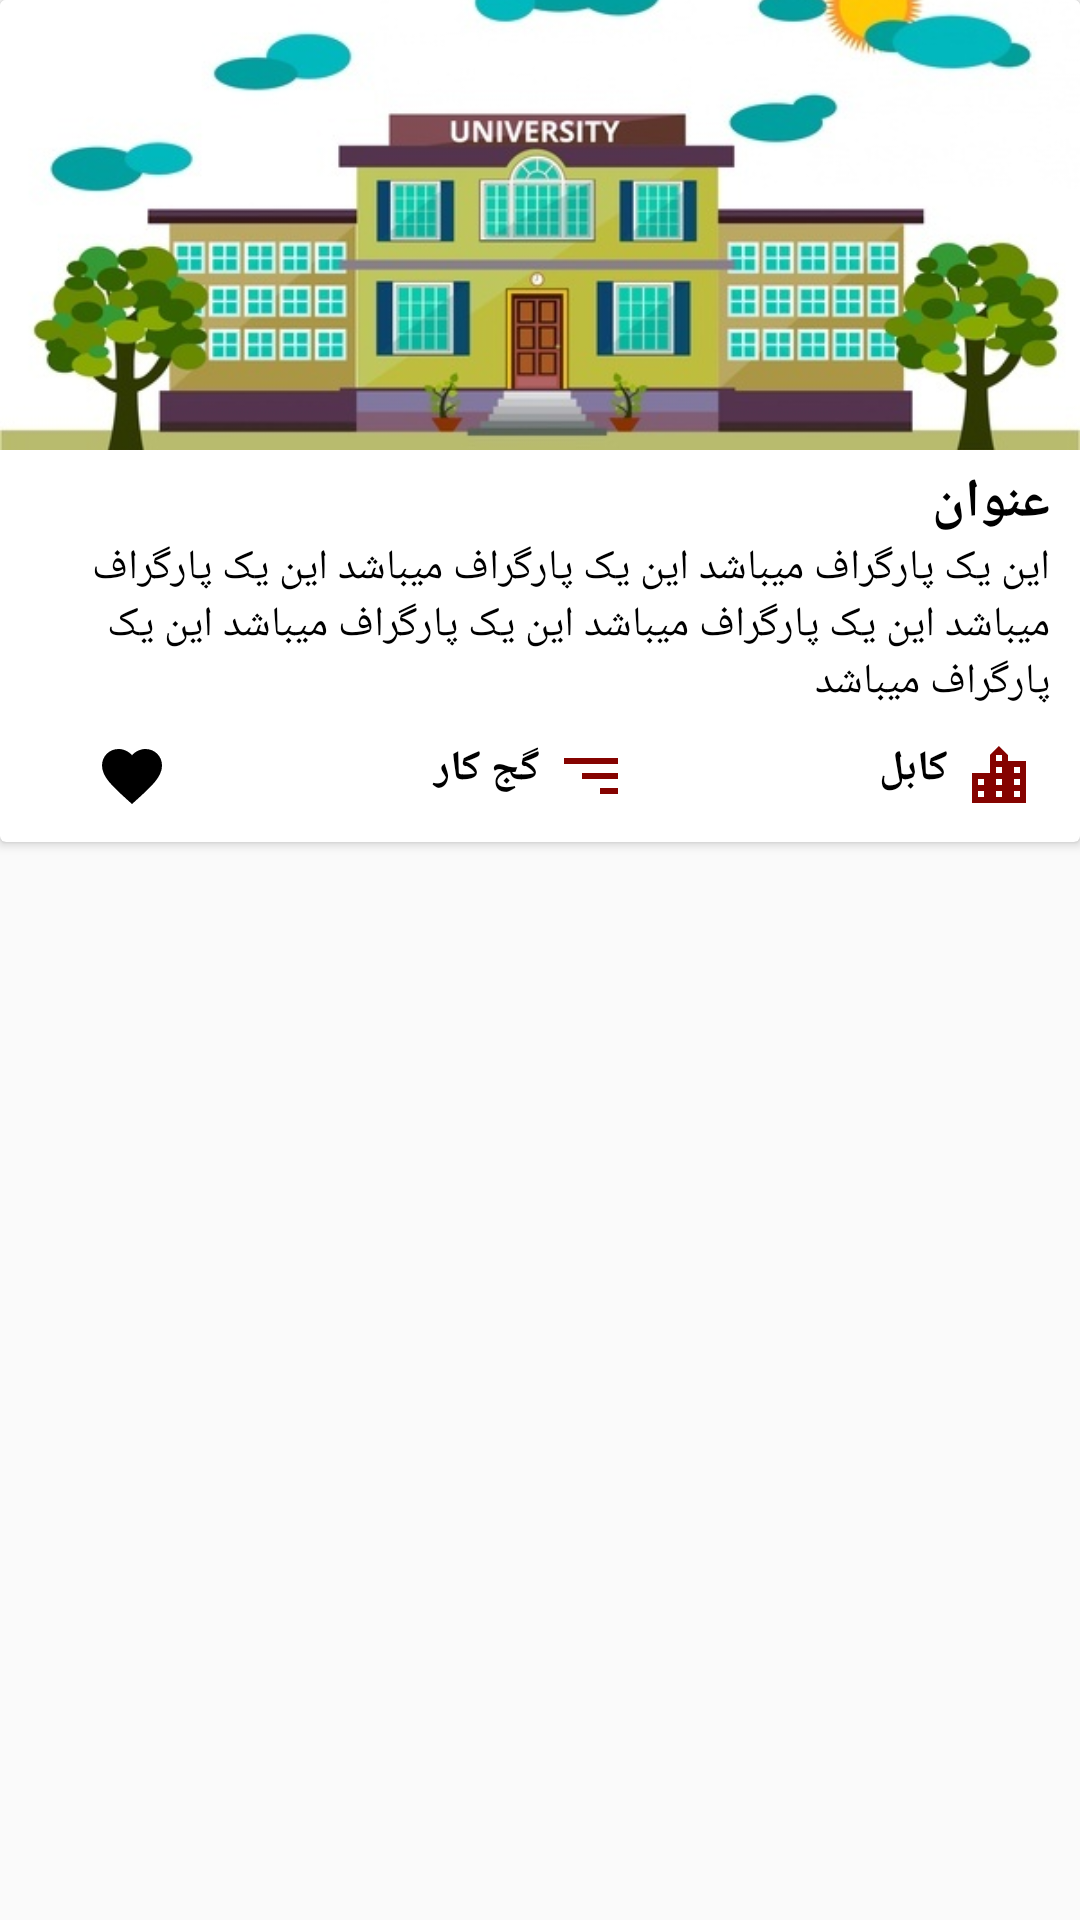

Screen size 1080px×1920px. Icon name, then its box in pixels as (x1, y1, x2, y2):
favorite: (102, 749, 162, 804)
location city: (972, 746, 1026, 803)
sort: (564, 758, 618, 794)
